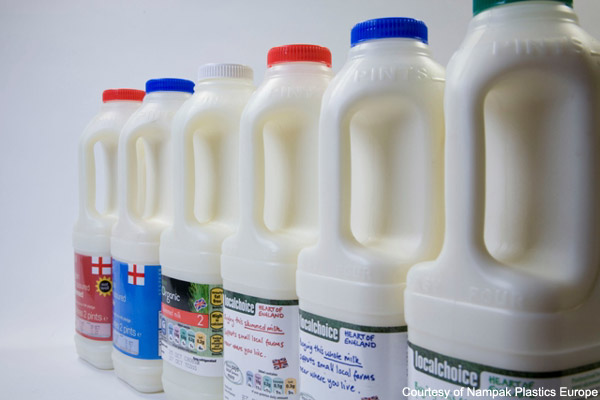milk: (407, 2, 600, 393), (305, 24, 451, 400), (239, 49, 341, 396), (173, 63, 256, 400), (128, 81, 194, 393), (76, 90, 141, 368)
